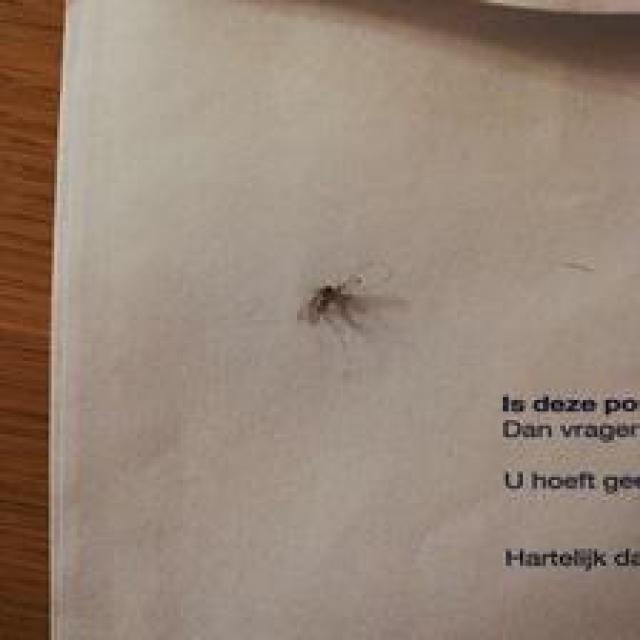Culex: (300, 272, 369, 332)
